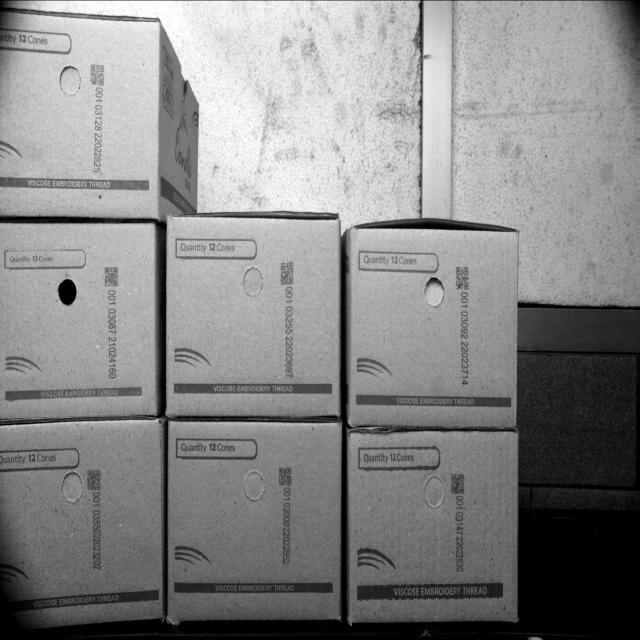cardboxes: (162, 212, 342, 414), (166, 418, 342, 621), (346, 226, 516, 427), (0, 418, 162, 626), (0, 12, 162, 216), (348, 430, 520, 622), (0, 218, 163, 410)
